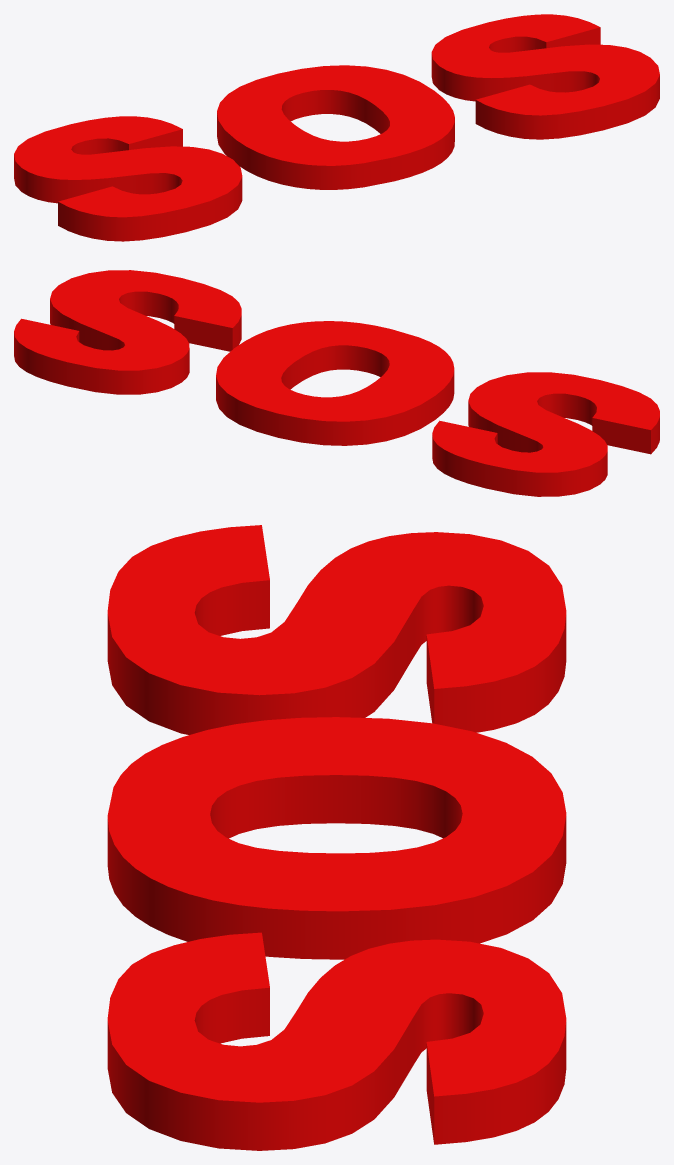
File: SOS.dae
The picture shows the model from 3 angles, top to bottom: view 1: azimuth 30°, elevation 25°; view 2: azimuth 150°, elevation 25°; view 3: azimuth 270°, elevation 25°; orthographic projection. The views are drawn at different scales.
Parts seen in each view (by area): view 1: SOS (×4); view 2: SOS (×4); view 3: SOS (×4).
Part boxes in pixels (<box>): SOS (×4): <box>14,14,659,241</box>; SOS (×4): <box>14,270,659,496</box>; SOS (×4): <box>107,525,566,1150</box>.
Bounding box in the file's own units: 1019 × 342 × 39.71.
